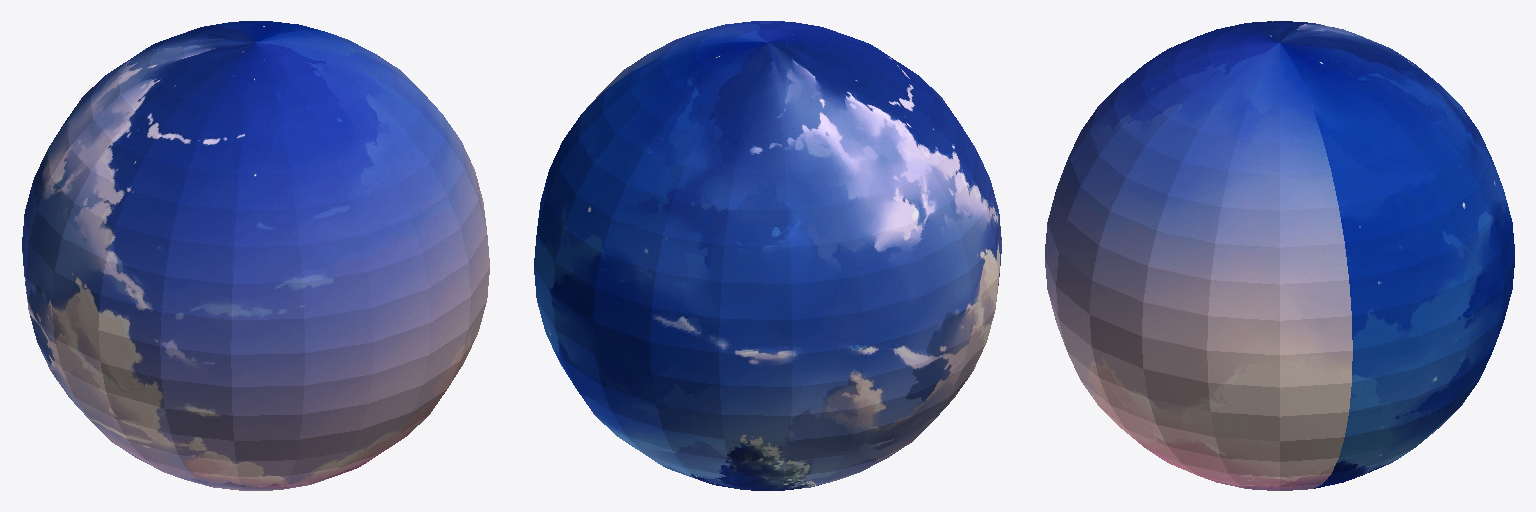
3 renders of one model, left to right at view 1: azimuth 30°, elevation 25°; view 2: azimuth 150°, elevation 25°; view 3: azimuth 270°, elevation 25°, orthographic.
Visible parts, largest first — view 1: spacesphere; view 2: spacesphere; view 3: spacesphere.
Boxes of the visible parts, x1=… form: spacesphere: x1=22, y1=21, x2=489, y2=490; spacesphere: x1=534, y1=21, x2=1001, y2=490; spacesphere: x1=1045, y1=21, x2=1514, y2=490.
Bounding box in the file's own units: 200 × 200 × 200.
Materials: 1 (1 with a texture image).